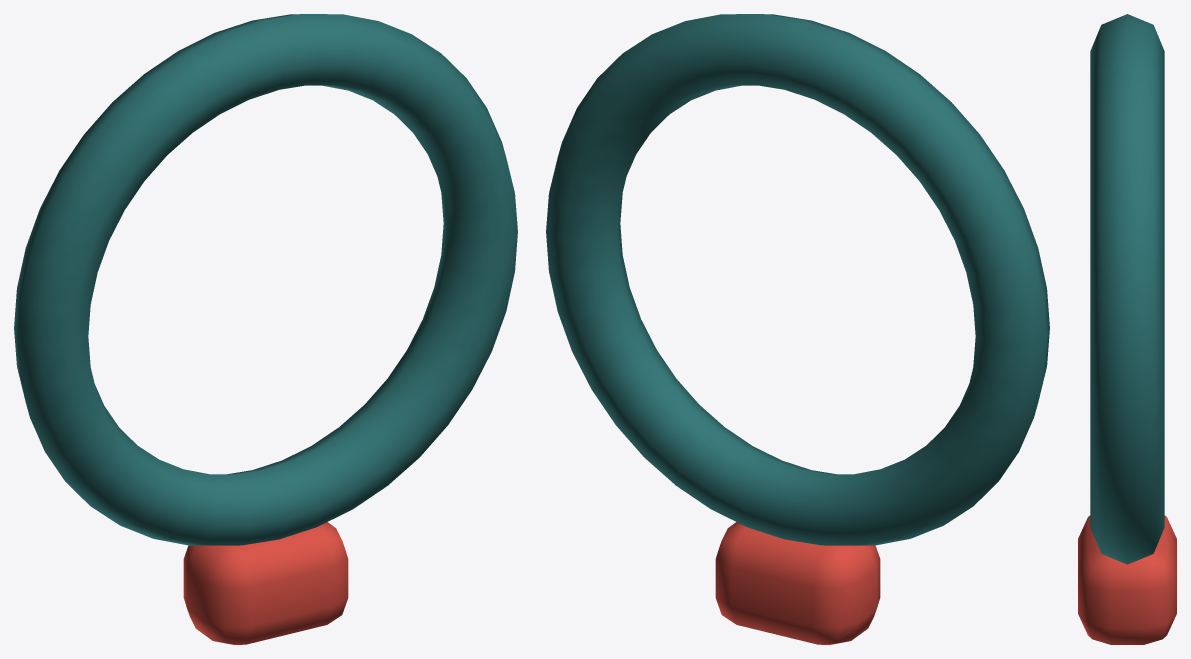
File: A05_RingReference.fbx
3 renders of one model, left to right at view 1: azimuth 30°, elevation 25°; view 2: azimuth 150°, elevation 25°; view 3: azimuth 270°, elevation 25°, orthographic. The views are drawn at different scales.
Visible parts, largest first — view 1: Ring_Rim, Hand_Grip; view 2: Ring_Rim, Hand_Grip; view 3: Ring_Rim, Hand_Grip.
Boxes of the visible parts, <box> form: Ring_Rim: <box>14,14,517,545</box>; Hand_Grip: <box>183,522,348,644</box>; Ring_Rim: <box>546,14,1049,545</box>; Hand_Grip: <box>715,522,880,644</box>; Ring_Rim: <box>1090,14,1164,564</box>; Hand_Grip: <box>1078,515,1176,644</box>.
Bounding box in the file's own units: 0.134 × 0.157 × 0.024.
